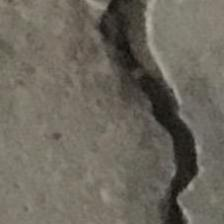Crack: (65, 0, 224, 224)
